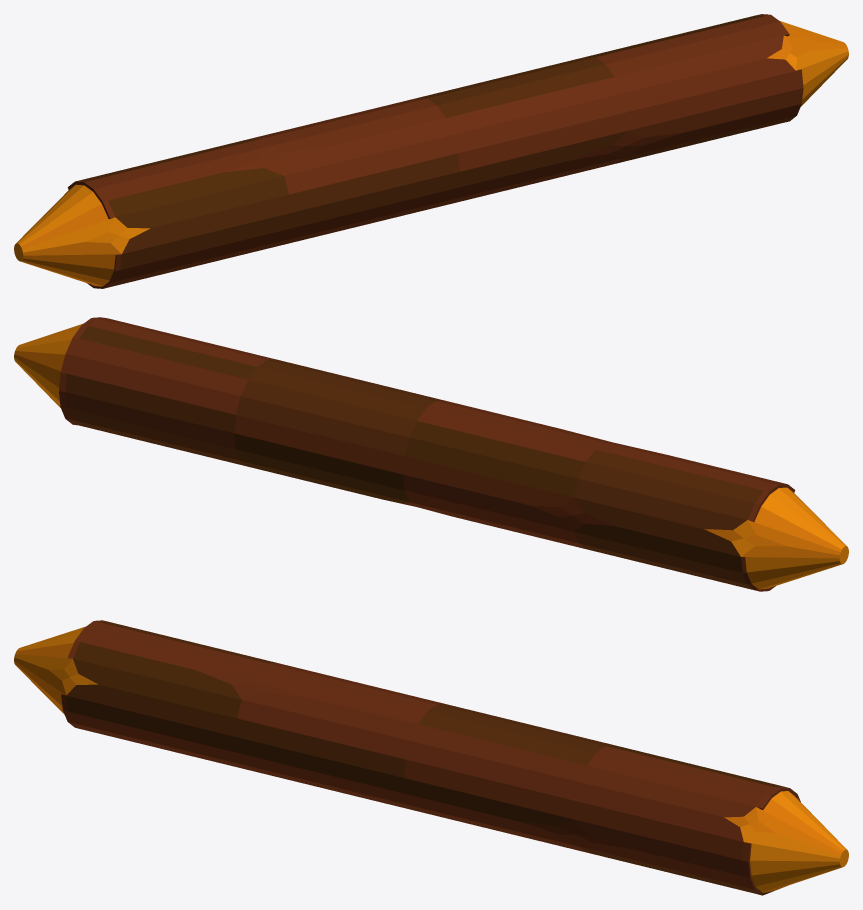
The model's file is Log_13.fbx.
3 views of the same model, one above another, from view 1: azimuth 30°, elevation 25°; view 2: azimuth 150°, elevation 25°; view 3: azimuth 330°, elevation 25° (orthographic).
Parts seen in each view (by area): view 1: Circle.406; view 2: Circle.406; view 3: Circle.406.
Part boxes in pixels (x1=…): Circle.406: x1=14, y1=14, x2=848, y2=288; Circle.406: x1=14, y1=317, x2=848, y2=591; Circle.406: x1=14, y1=620, x2=848, y2=895.
Size of the model in its own units: 220 by 25.3 by 25.71.
